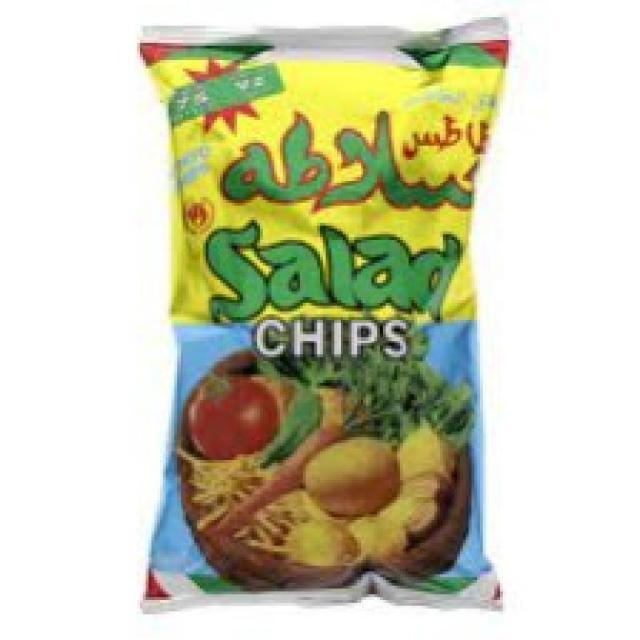plastic: (130, 25, 512, 616)
